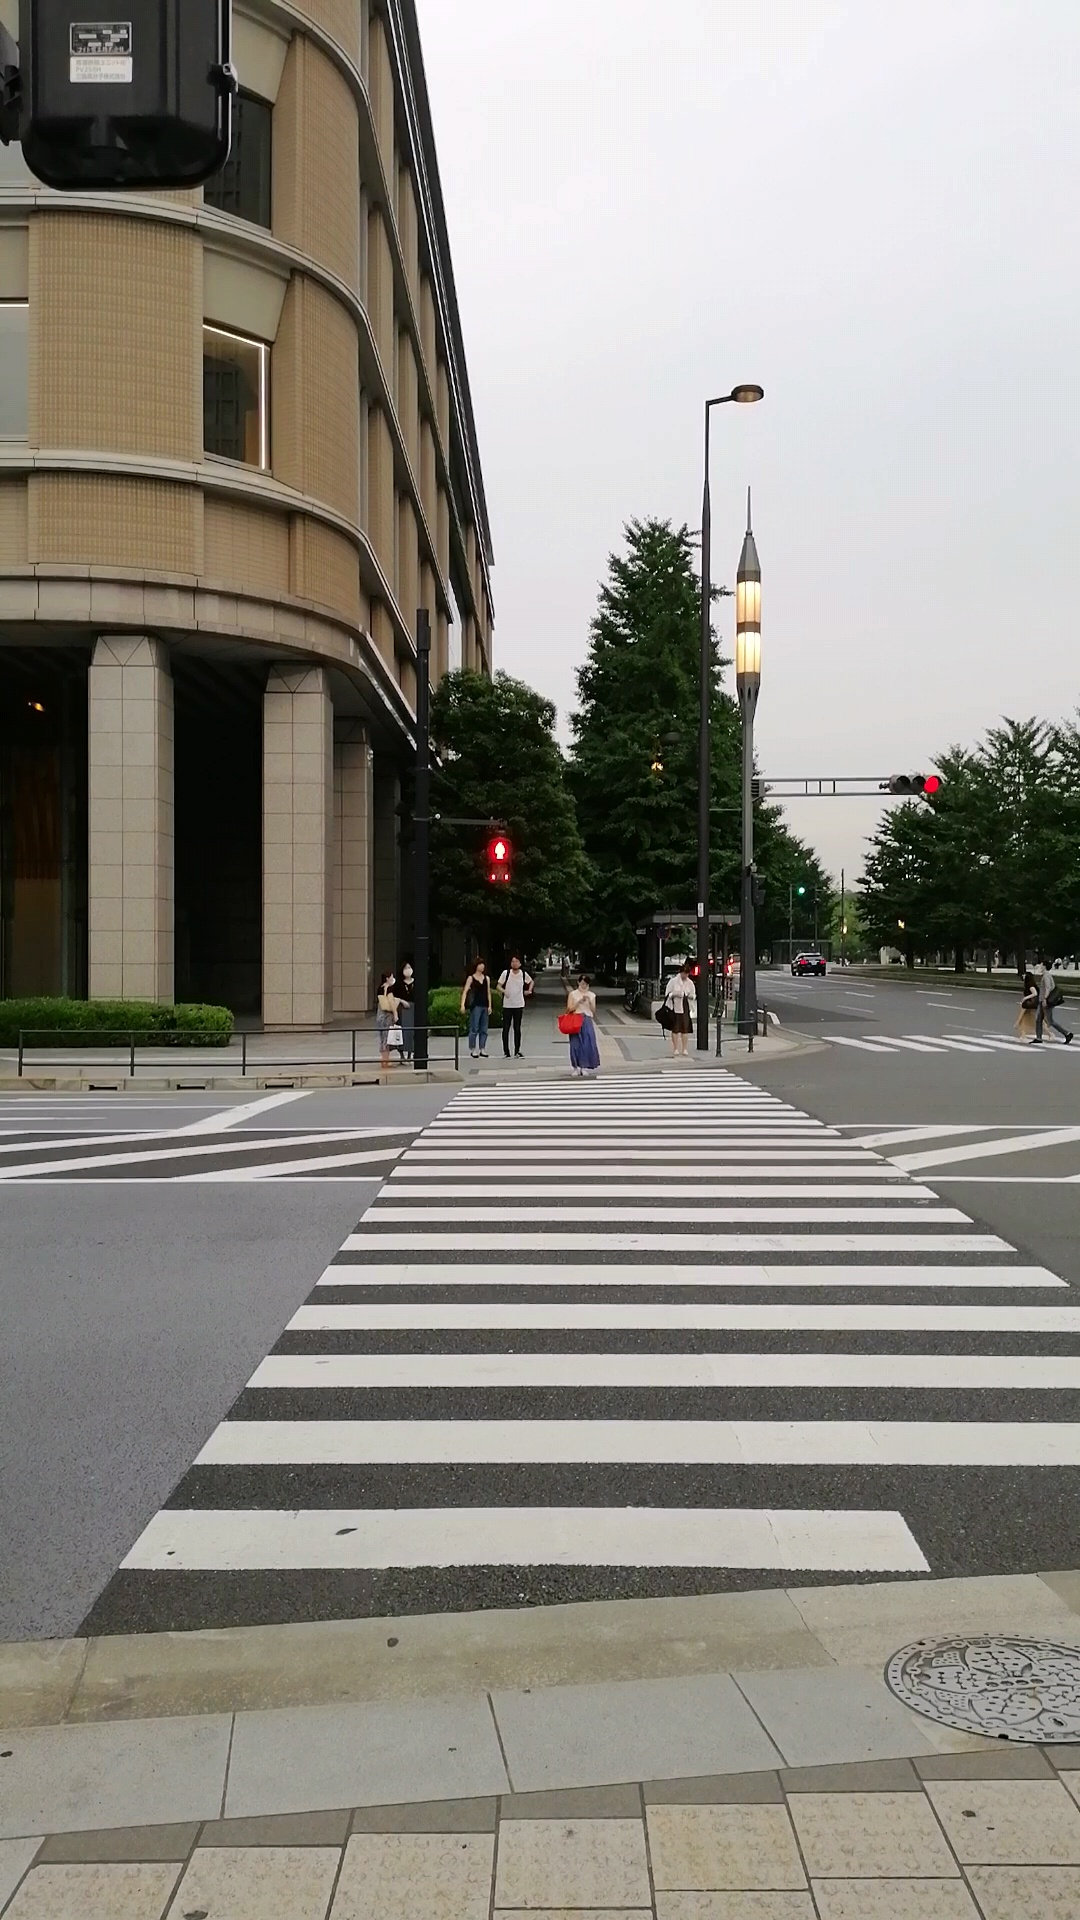red: (481, 829, 516, 891)
